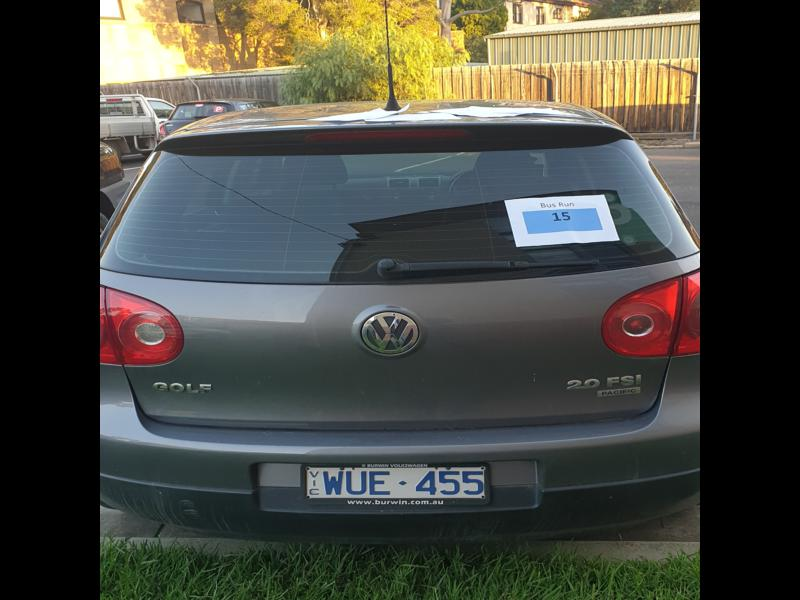BusRun: (523, 210, 600, 230)
PlateNo: (302, 460, 487, 497)
